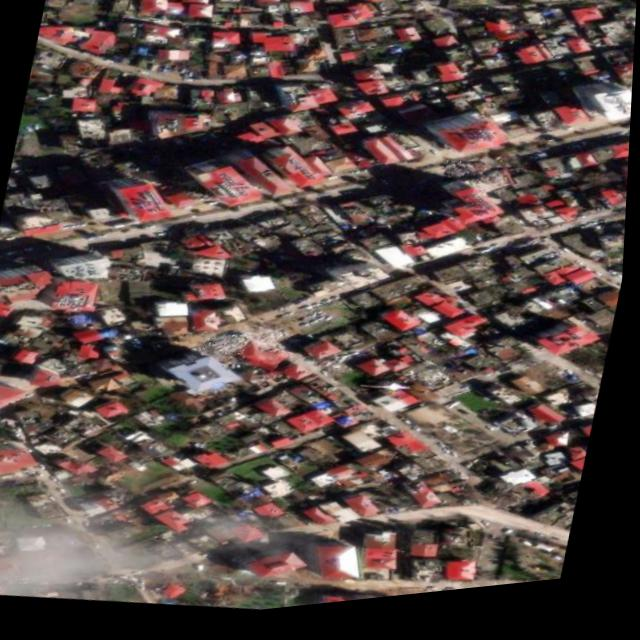Rubble: (204, 334, 252, 365), (446, 166, 488, 196)
